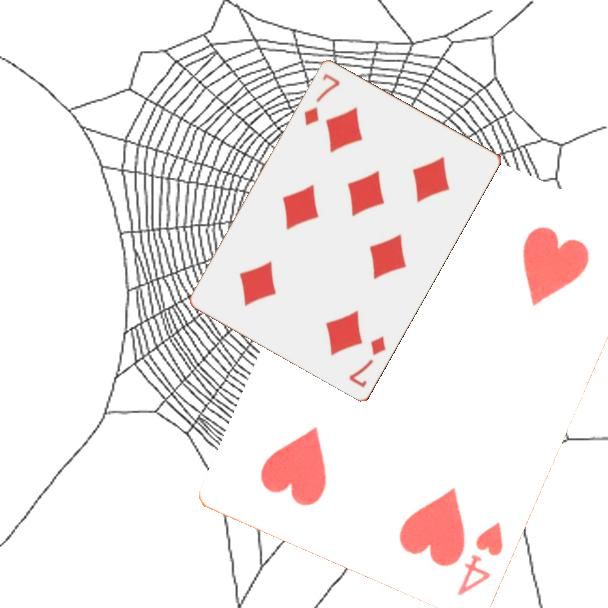d07: (345, 332, 389, 390), (300, 69, 343, 128)
h04: (454, 519, 507, 600)
